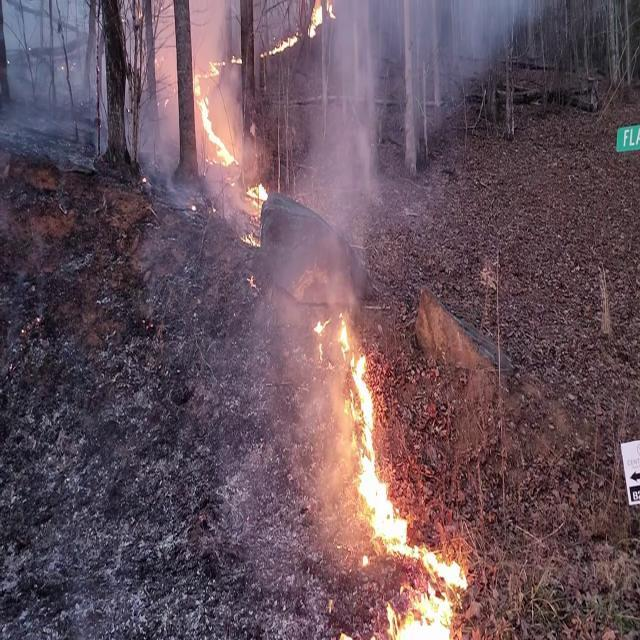Fire: (331, 312, 469, 637), (193, 54, 234, 167), (308, 0, 334, 38), (266, 28, 300, 56), (246, 175, 268, 213)
Smoke: (300, 3, 384, 297)
